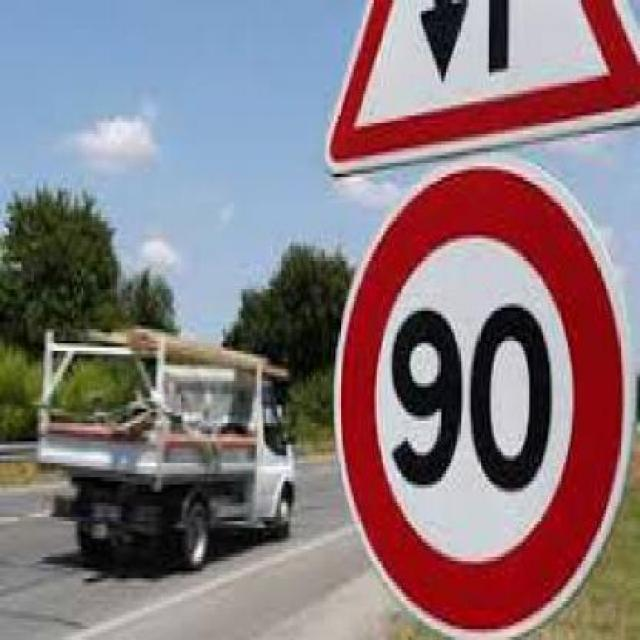Ograniczenie predkosci do 90: (337, 162, 630, 636)
